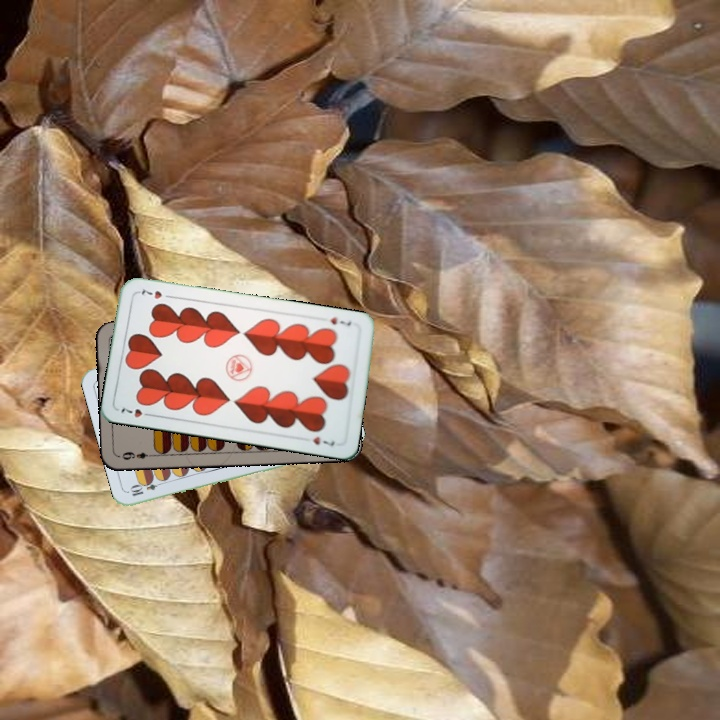E10: (126, 476, 166, 499)
E9: (118, 448, 157, 462)
H7: (117, 403, 156, 420), (326, 313, 354, 328)
